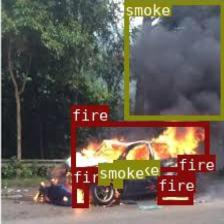fire: (70, 122, 208, 170), (156, 192, 192, 204), (177, 170, 194, 192), (72, 183, 87, 207)
smoke: (123, 0, 224, 119), (113, 176, 122, 187), (97, 179, 108, 184)
